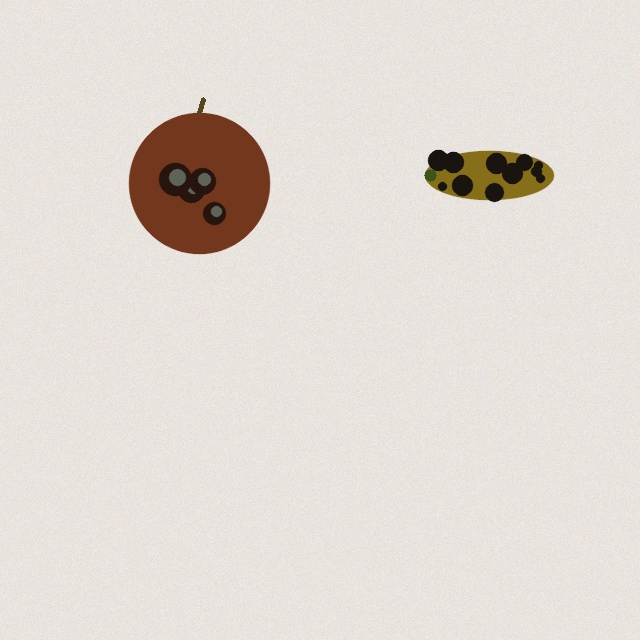Rotten apple: (129, 99, 269, 253)
Rotten banana: (422, 145, 556, 205)
